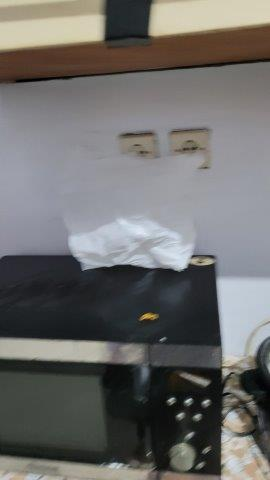plastik: (56, 125, 205, 273)
